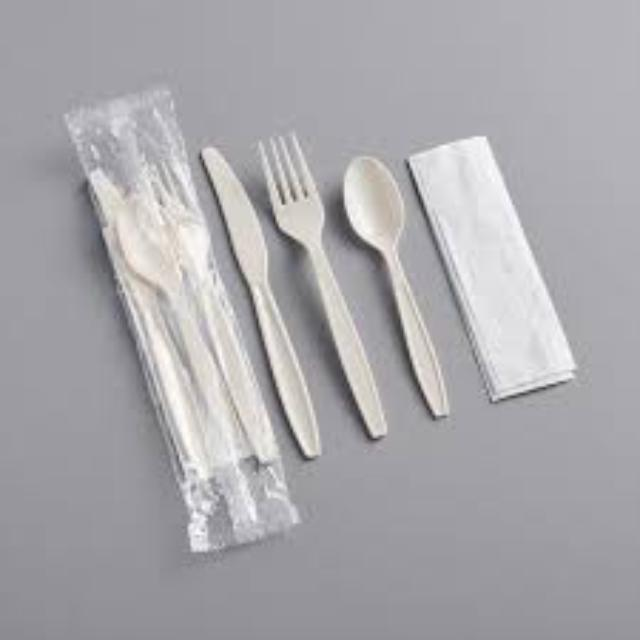Plastico descartable: (259, 134, 388, 438), (201, 146, 321, 458), (344, 156, 449, 416)
